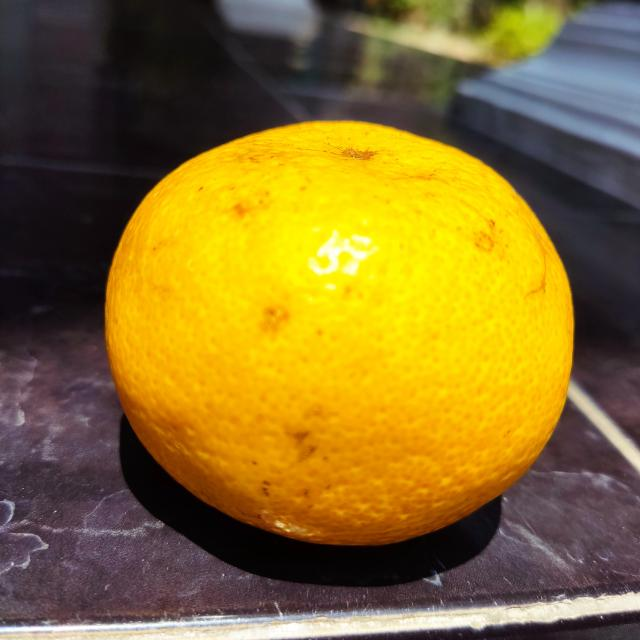orange: (99, 117, 579, 548)
